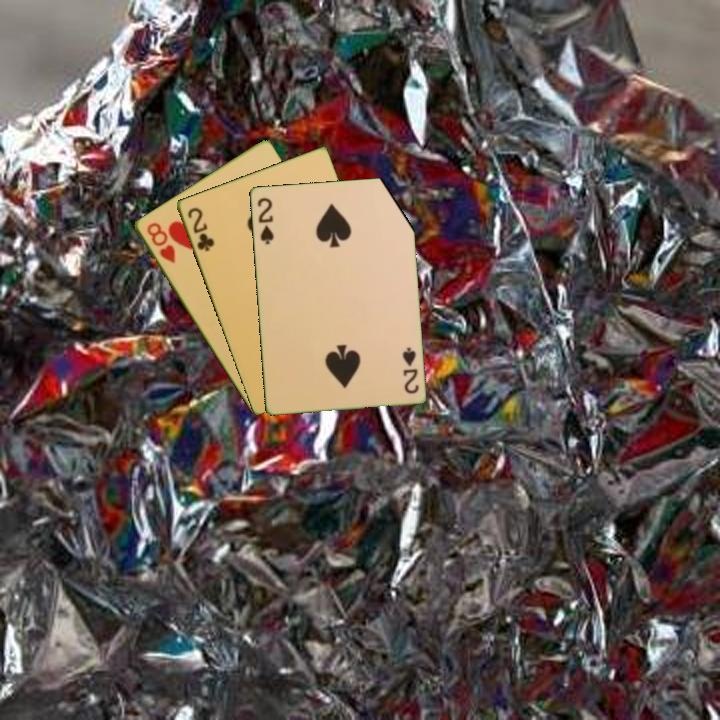2c: (184, 204, 217, 254)
2s: (398, 343, 421, 396), (254, 194, 276, 247)
8h: (143, 219, 178, 266)
